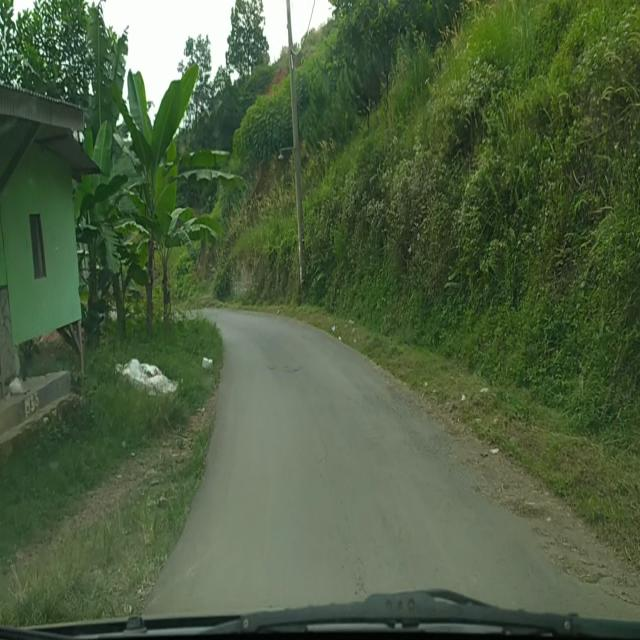Drain Hole: (359, 381, 427, 418), (404, 426, 465, 465)
